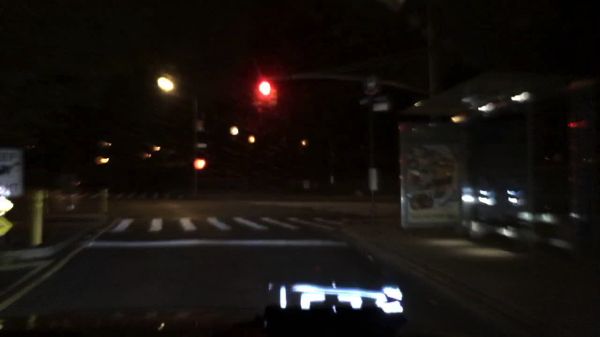traffic light: (259, 81, 272, 93), (196, 159, 205, 169), (198, 120, 205, 132)
traffic sign: (1, 149, 24, 197), (372, 98, 388, 114), (364, 75, 378, 92), (1, 219, 13, 238), (1, 199, 14, 216), (368, 169, 376, 191), (359, 98, 370, 106)
